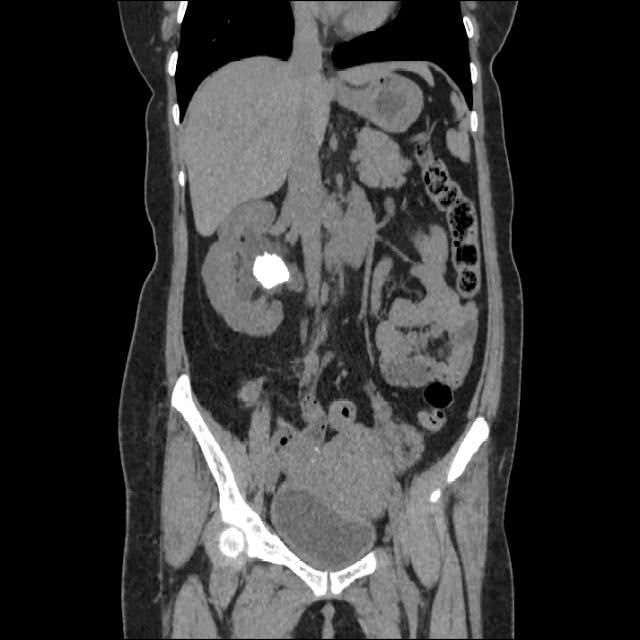kidney: (201, 198, 307, 335)
stone: (252, 252, 288, 286)
